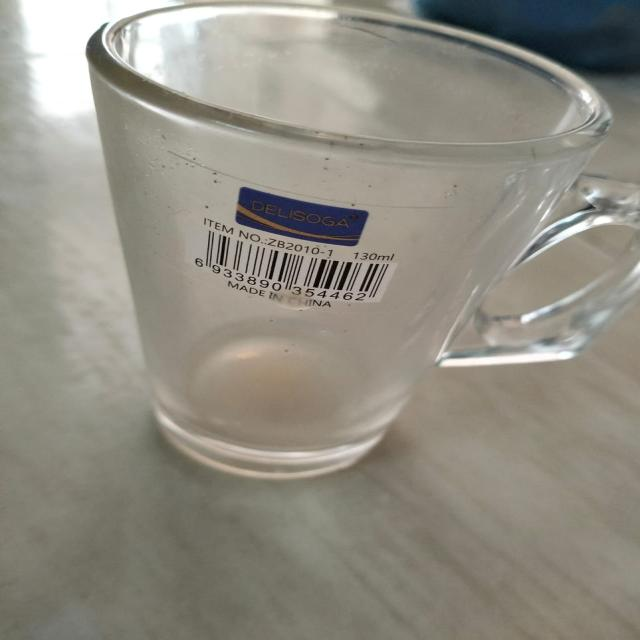glass-VX4N: (85, 0, 640, 485)
